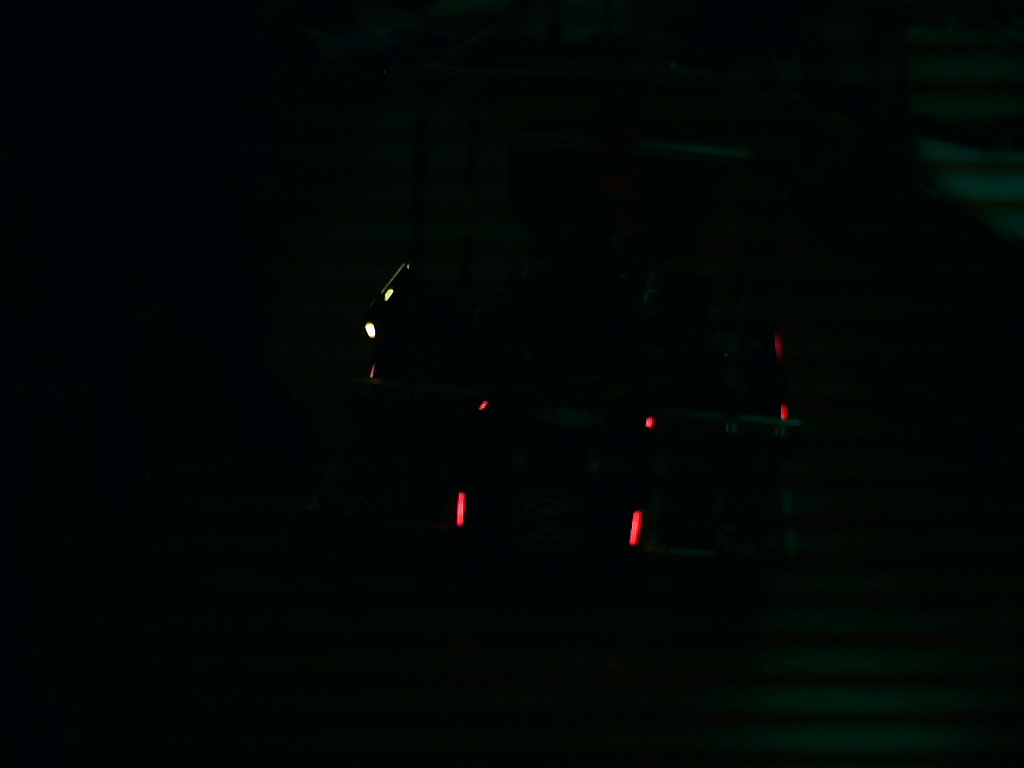lamp: (627, 507, 645, 549), (451, 492, 471, 527)
